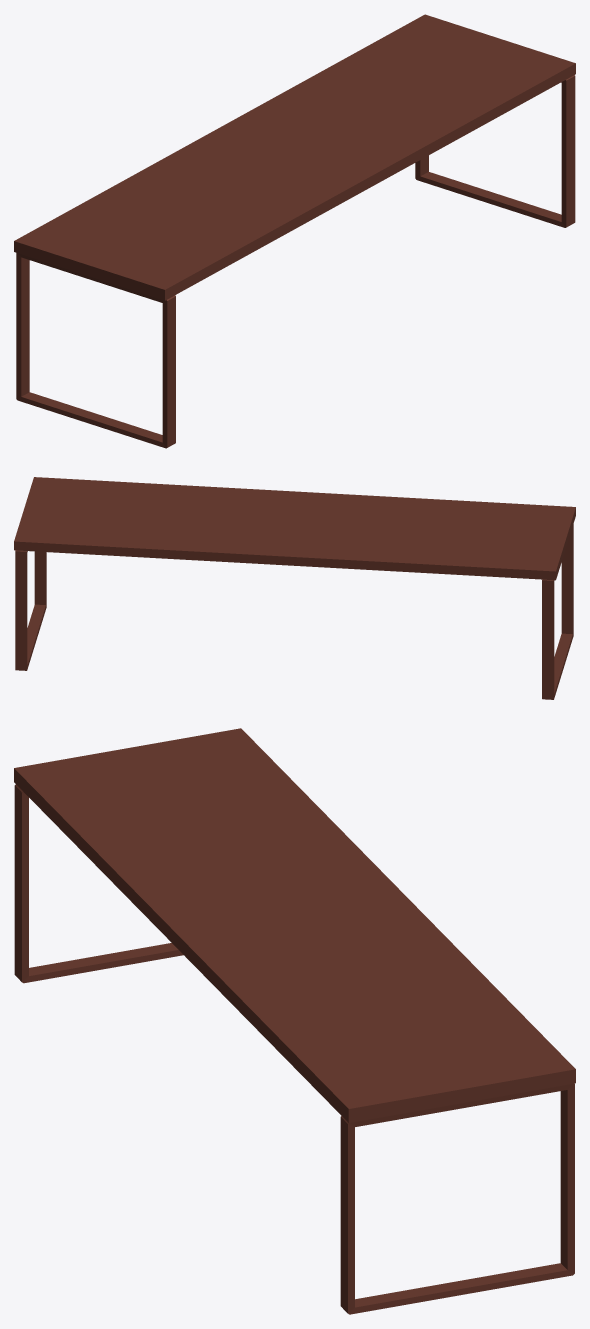
The model's file is Table.fbx.
3 views of the same model, one above another, from view 1: azimuth 30°, elevation 25°; view 2: azimuth 150°, elevation 25°; view 3: azimuth 270°, elevation 25° (orthographic). The views are drawn at different scales.
Parts seen in each view (by area): view 1: Cube.084; view 2: Cube.084; view 3: Cube.084.
Part boxes in pixels (x1=…): Cube.084: x1=14, y1=14, x2=575, y2=448; Cube.084: x1=14, y1=477, x2=575, y2=699; Cube.084: x1=14, y1=728, x2=575, y2=1314.
Bounding box in the file's own units: 406 × 103 × 253.
